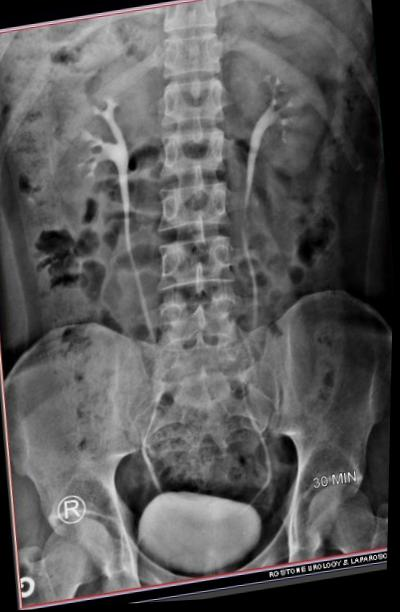bladder: (123, 477, 271, 598)
left kidney: (220, 15, 336, 189)
vertebrae: (155, 67, 227, 131)
